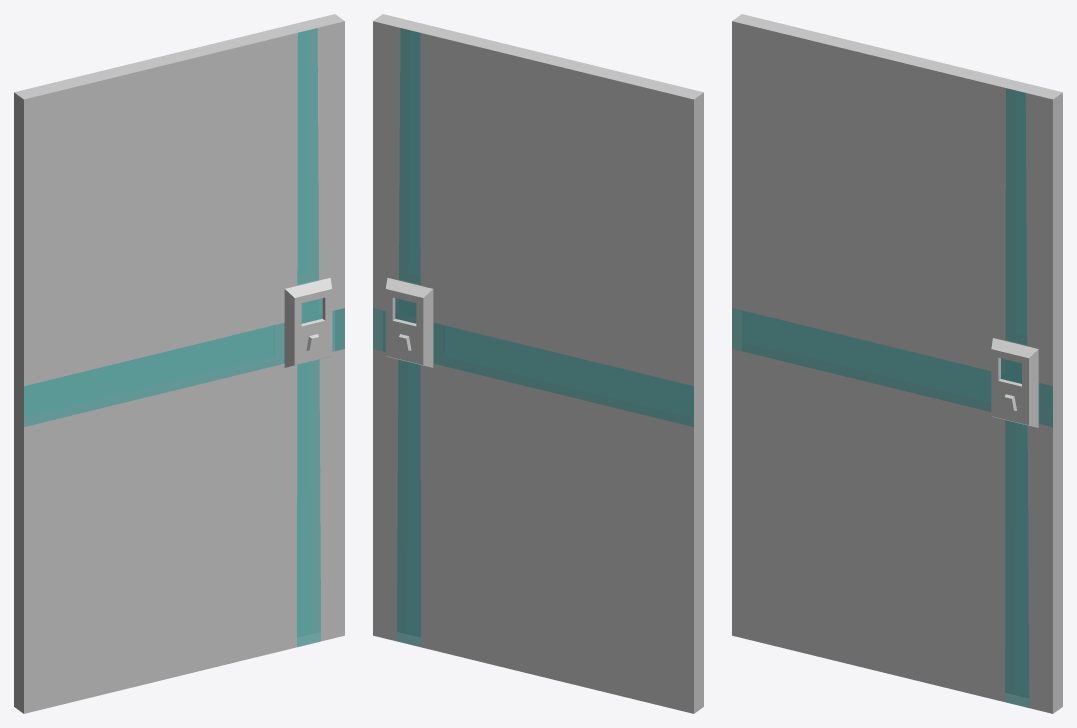
Rendered from DoorInternal.fbx.
3 views of the same model, side by side, from view 1: azimuth 30°, elevation 25°; view 2: azimuth 150°, elevation 25°; view 3: azimuth 330°, elevation 25° (orthographic).
Parts seen in each view (by area): view 1: pCube8; view 2: pCube8; view 3: pCube8.
Boxes of the visible parts, x1,y1,x2,y2 form: pCube8: (14,14,344,713); pCube8: (373,14,703,713); pCube8: (732,14,1062,713).
Size of the model in its own units: 185 by 338 by 25.11.
